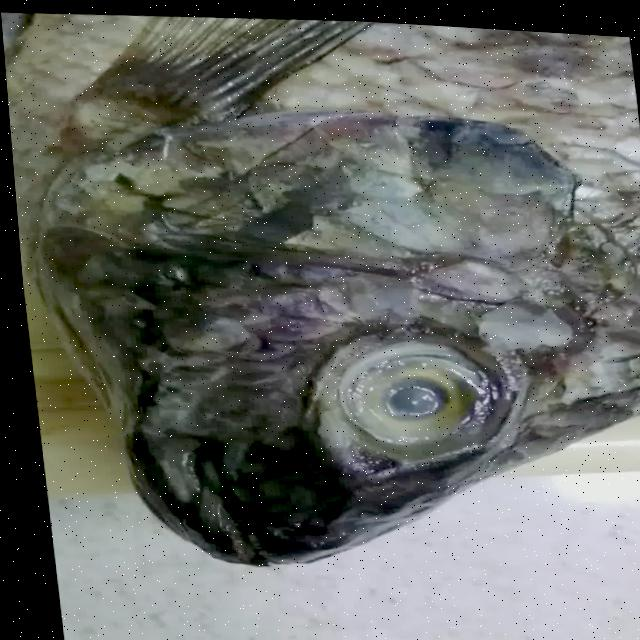Non-Fresh: (291, 318, 523, 470)
